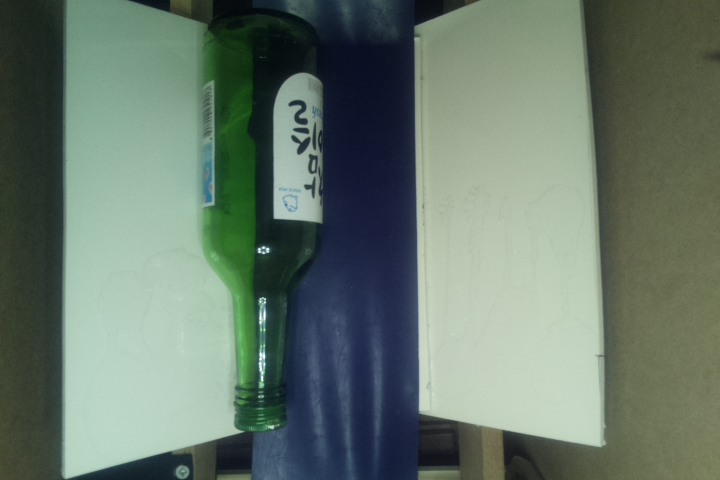soju: (200, 10, 331, 432)
